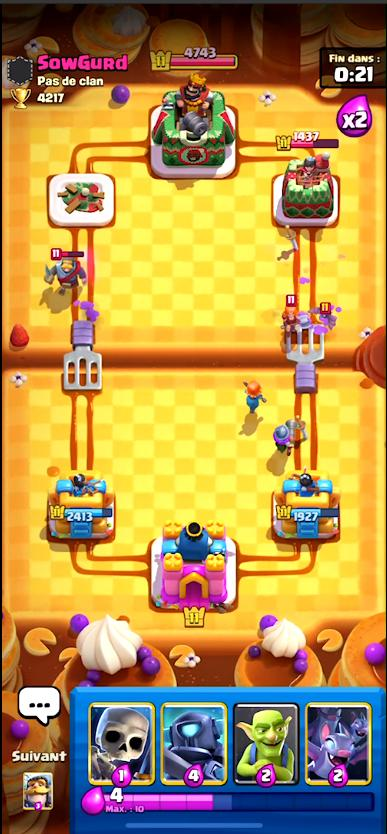bat: (311, 305, 338, 329)
chevalier: (47, 250, 88, 296)
mousquetaire: (275, 415, 298, 452)
valkyrie: (278, 294, 311, 335), (239, 378, 265, 414)
